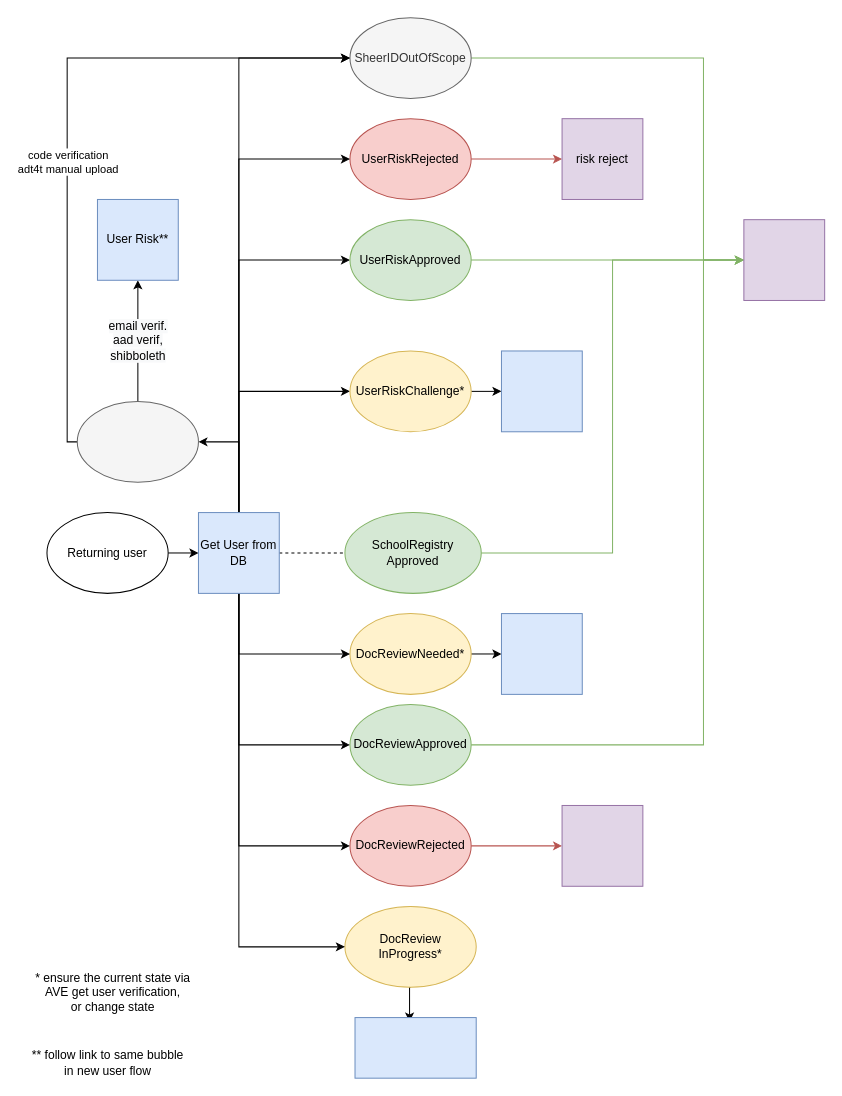
This 842x1096 diagram has some shape labels left out. The shapes that lost their labels are listed below. From the top down, each one's box as (x1, y1, x2, y2) in pixels, then its label:
(743, 219, 825, 300): proceed to signup
(500, 350, 582, 432): School Registry**
(76, 400, 198, 482): UserRiskNotCalled
(500, 613, 582, 694): Document upload**
(561, 804, 643, 886): doc review failed
(354, 1017, 476, 1078): Doc review message
